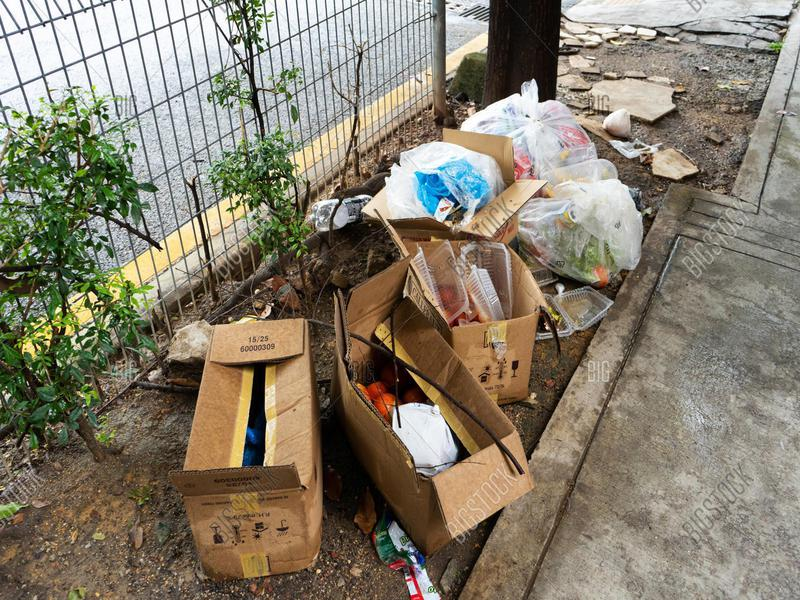cardboard: (312, 255, 537, 555), (167, 314, 330, 584), (375, 210, 547, 409)
plastic: (451, 77, 600, 177), (363, 143, 504, 221), (522, 197, 630, 296), (556, 171, 656, 271)
